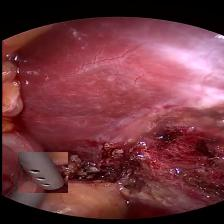Irrigator: (17, 152, 67, 193)
